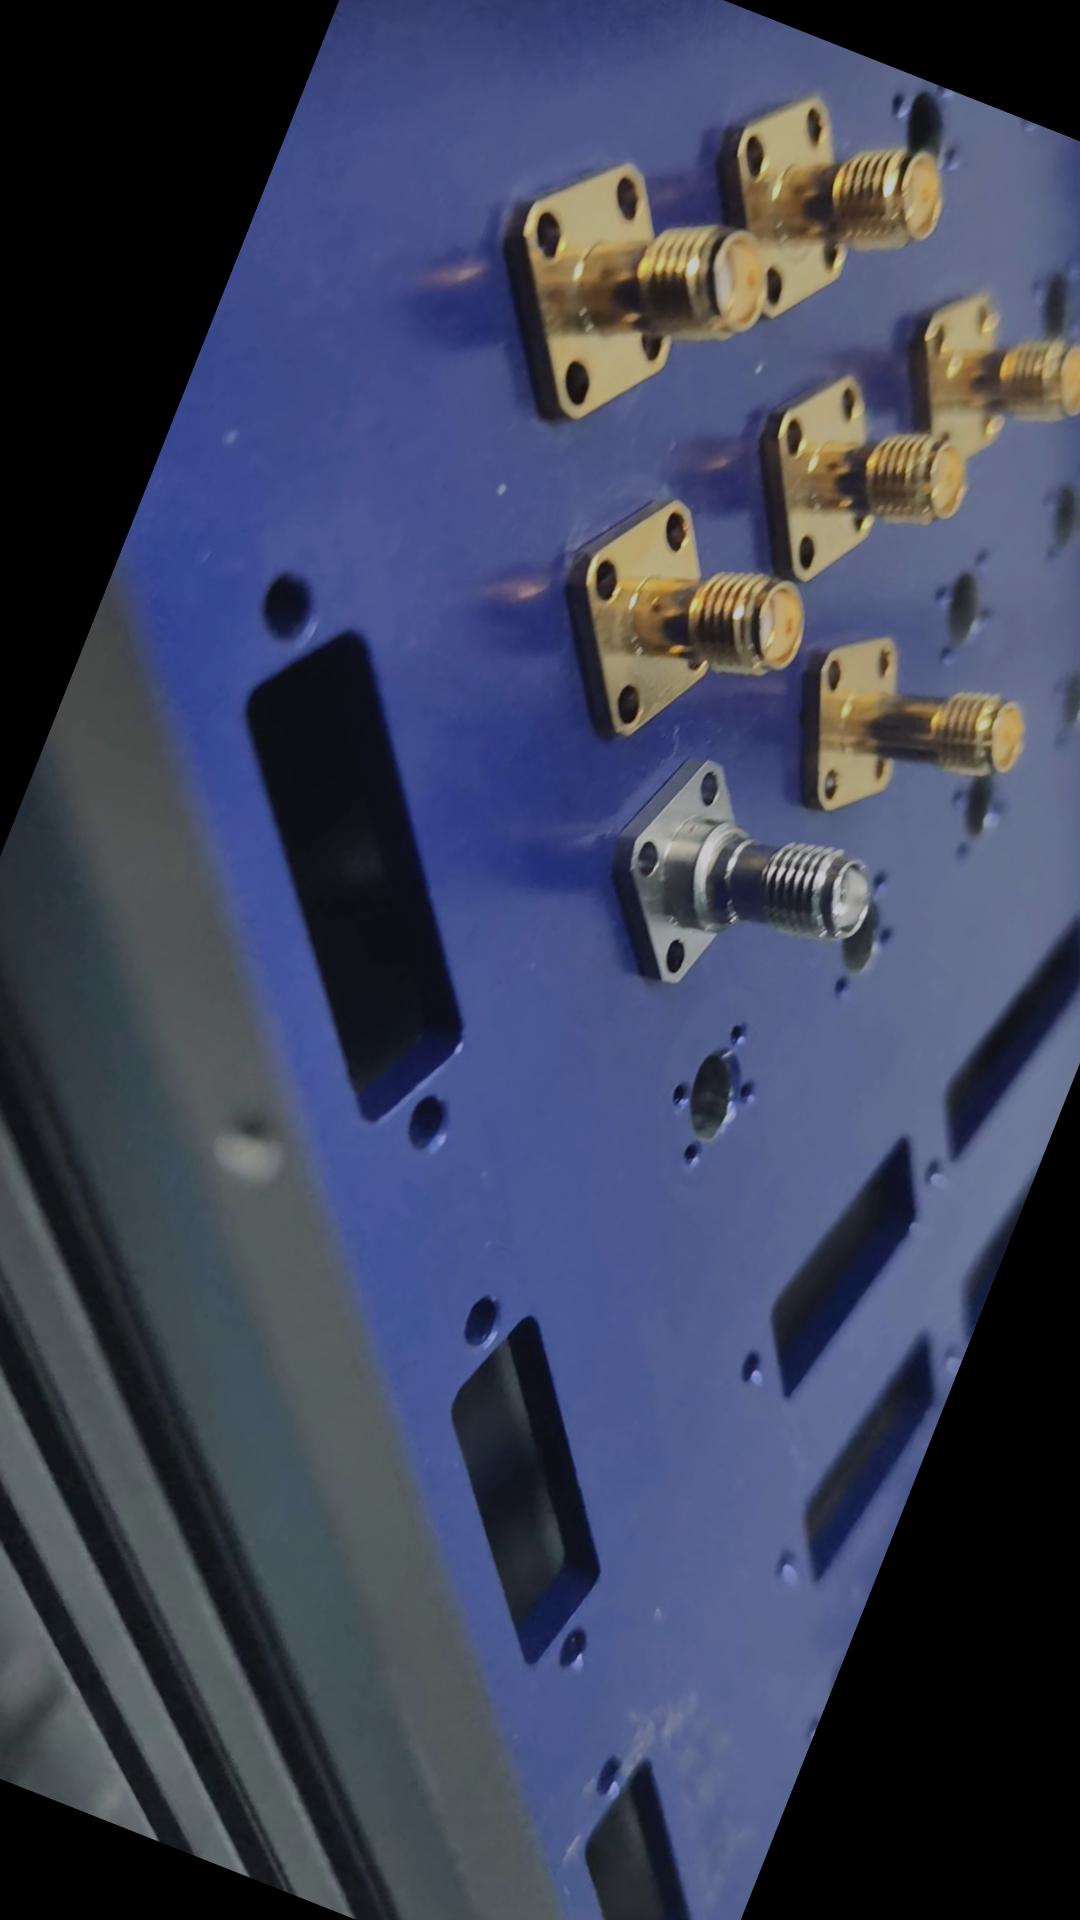SMA: (462, 133, 798, 475), (524, 454, 843, 789), (576, 724, 906, 1044), (720, 335, 1005, 637), (764, 605, 1052, 880)
